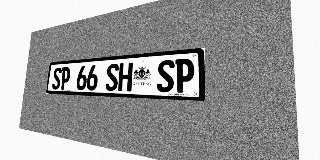6: (86, 65, 99, 90), (76, 65, 88, 90)
H: (118, 62, 133, 91)
P: (175, 58, 194, 93), (60, 67, 71, 90)
S: (157, 59, 175, 92), (105, 63, 119, 91), (52, 67, 62, 90)
